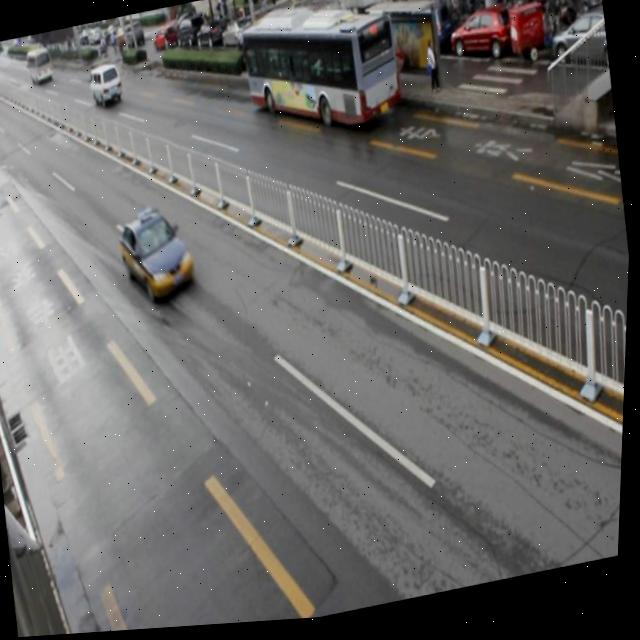car: (116, 206, 202, 307)
truck: (87, 62, 126, 110)
van: (239, 4, 405, 149)
